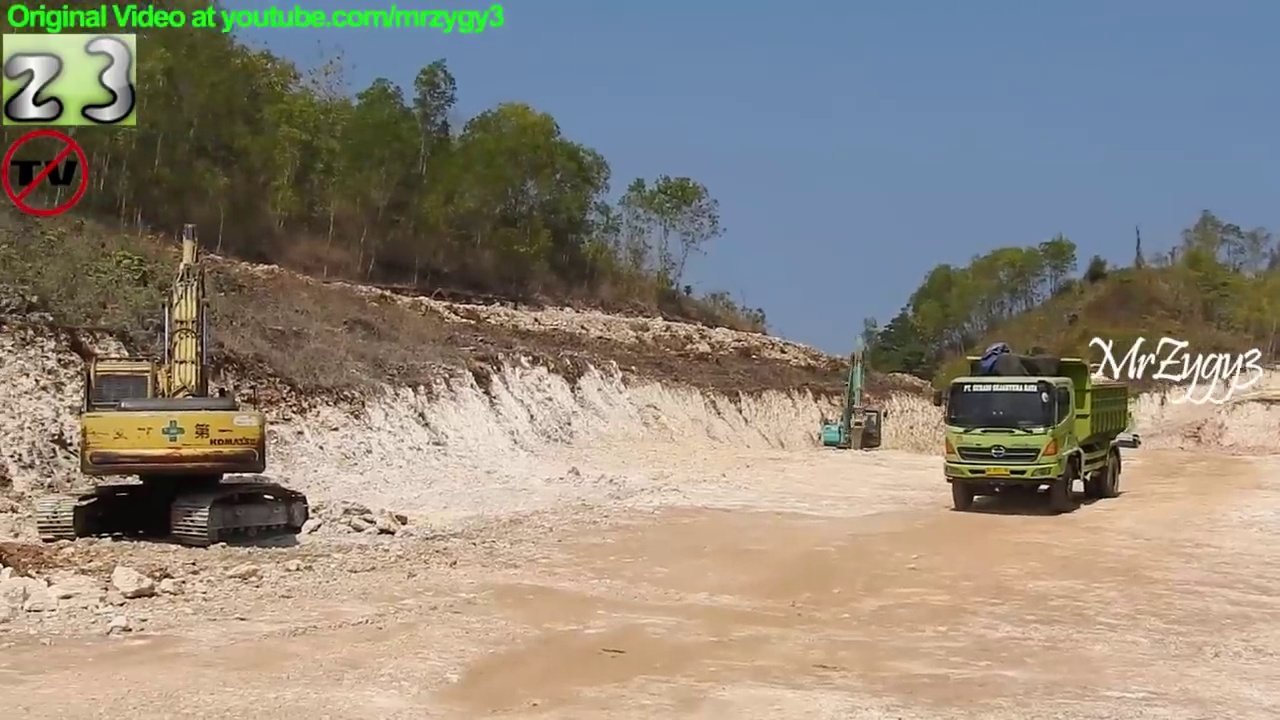excavator: (816, 347, 892, 465), (1054, 383, 1140, 448)
excavator breaker: (30, 216, 317, 552)
truck: (929, 351, 1134, 517), (1096, 426, 1150, 476)
